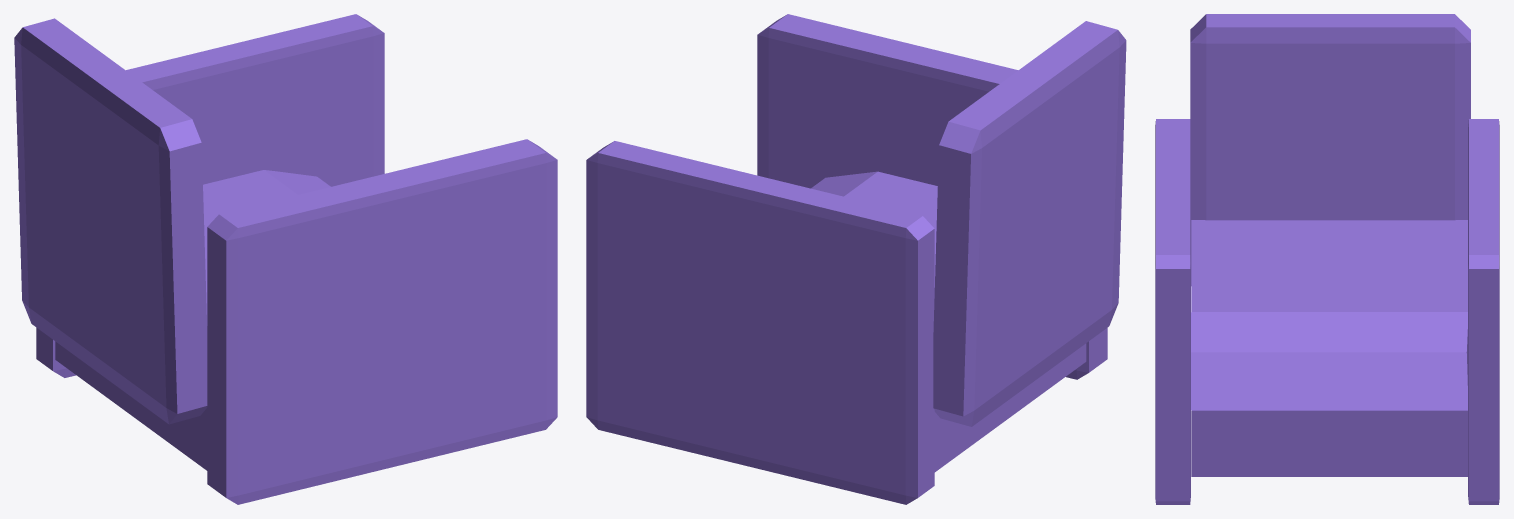
File: NEWARMCHAIR.fbx
The picture shows the model from 3 angles, left to right: view 1: azimuth 30°, elevation 25°; view 2: azimuth 150°, elevation 25°; view 3: azimuth 270°, elevation 25°; orthographic projection. The views are drawn at different scales.
Visible parts, largest first — view 1: sides, back, seat; view 2: sides, back, seat; view 3: seat, back, sides.
Part boxes in pixels (left/top/right/bottom): sides: left=36, top=14, right=557, bottom=504; back: left=14, top=18, right=207, bottom=424; seat: left=55, top=170, right=330, bottom=470; sides: left=586, top=14, right=1107, bottom=504; back: left=933, top=21, right=1126, bottom=426; seat: left=811, top=171, right=1086, bottom=472; seat: left=1191, top=220, right=1467, bottom=476; back: left=1190, top=14, right=1470, bottom=285; sides: left=1155, top=119, right=1499, bottom=504.
Size of the model in its own units: 166 by 158 by 148.
